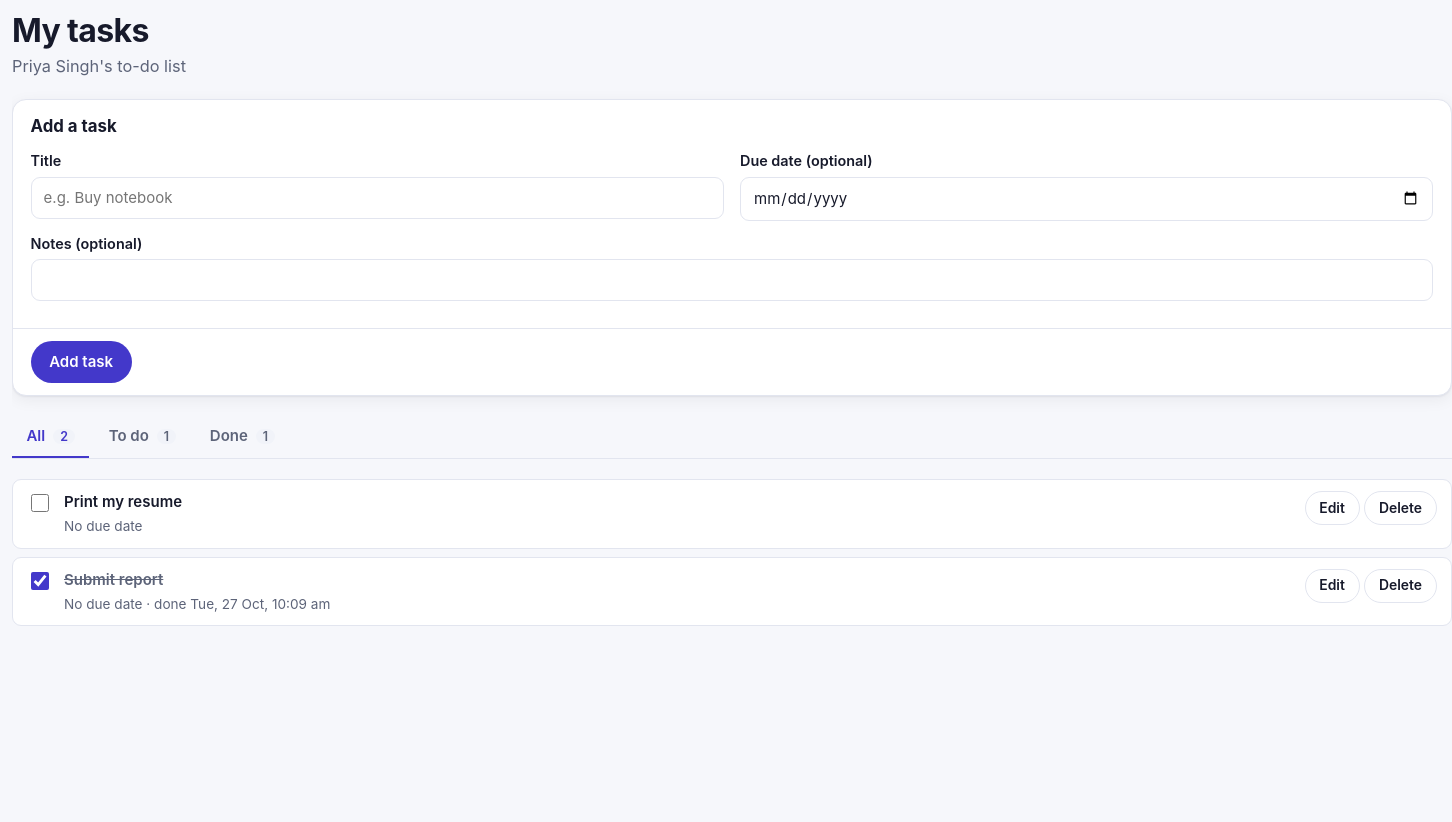
Test: TasksPage › FS-T32 edits a task; a server validation error appears under the field
Click the button "Edit" in the row of "Print my resume".
click(1332, 508)  # box [1305,491,1360,525]
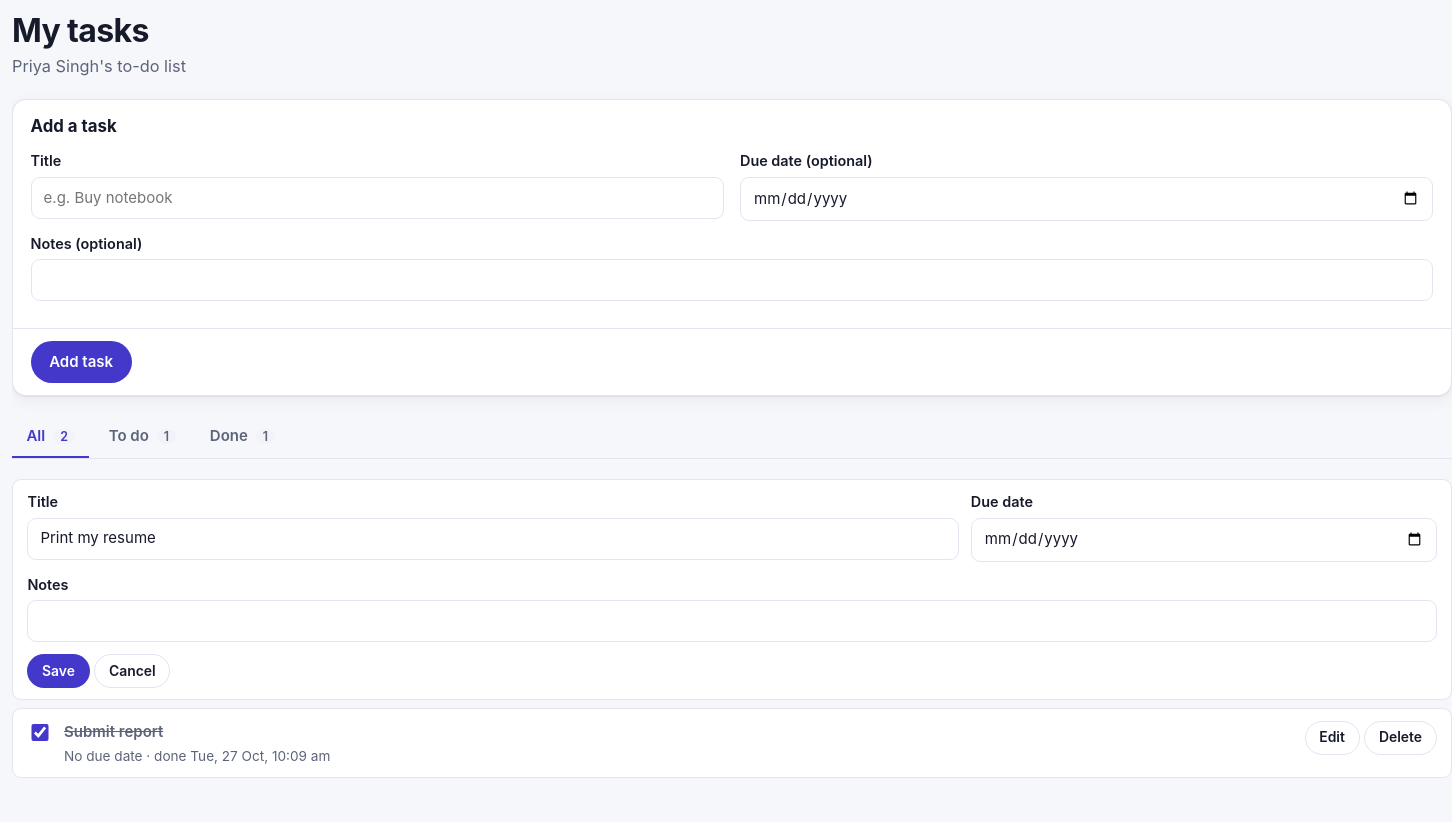
Replace the text in the 2nd field labelled "Title" with "Print my resume (two copies)" at (493, 539), box [27,518,959,560]
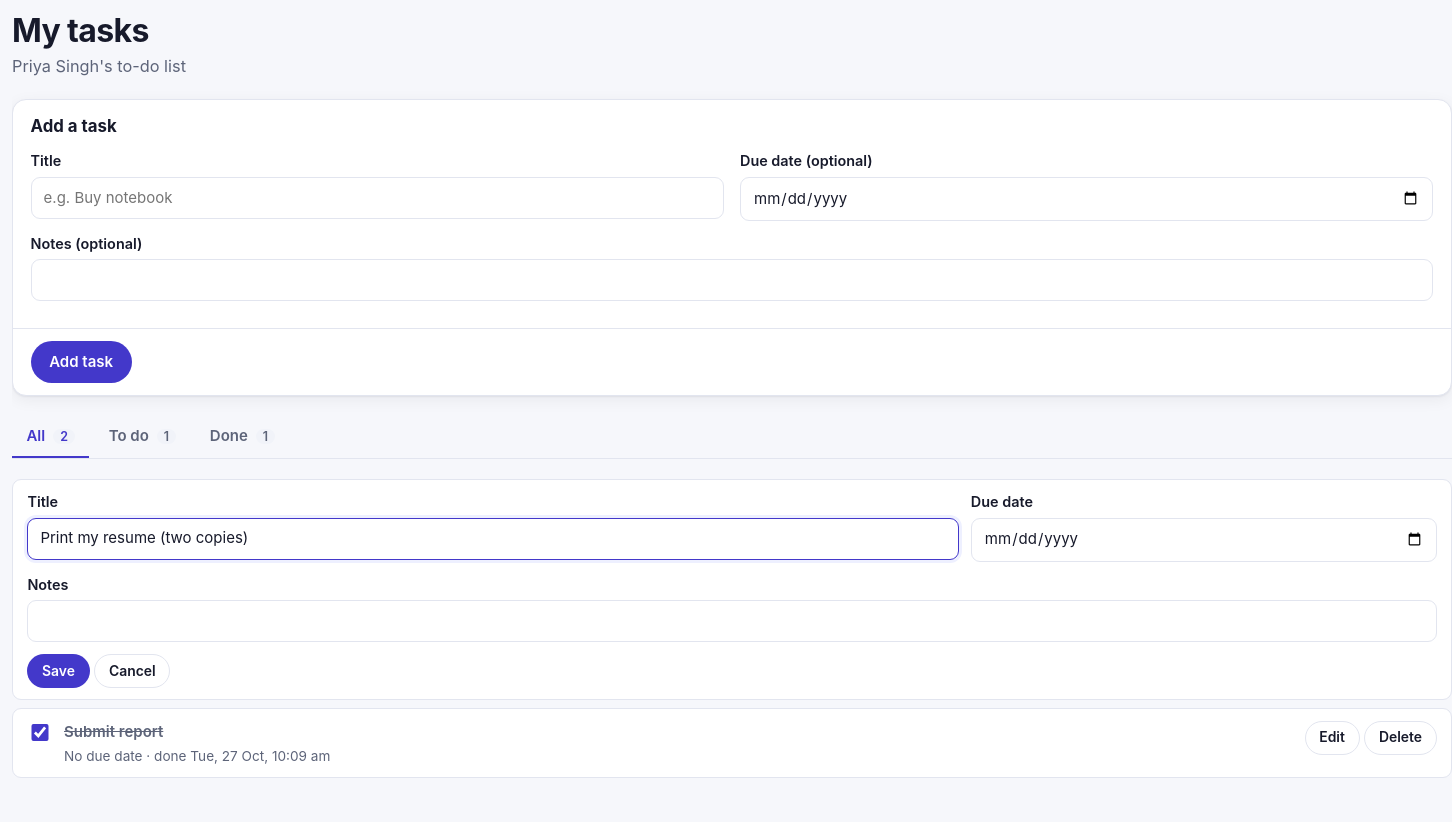
Click the button "Save".
click(58, 671)  # box [27,654,90,688]
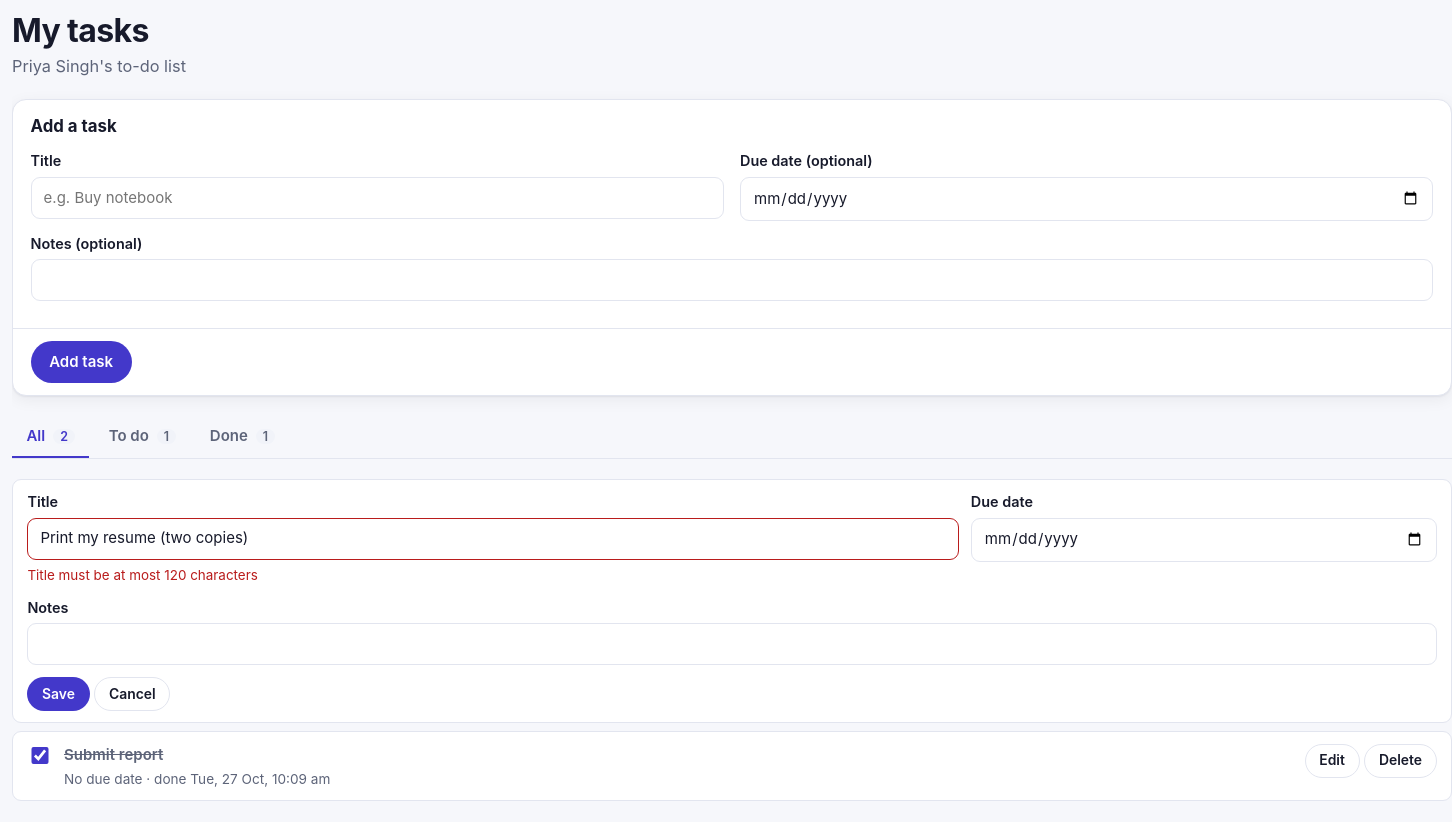
expect the text "Title must be at most 120 characters" is shown: met, box [27,566,258,582]
